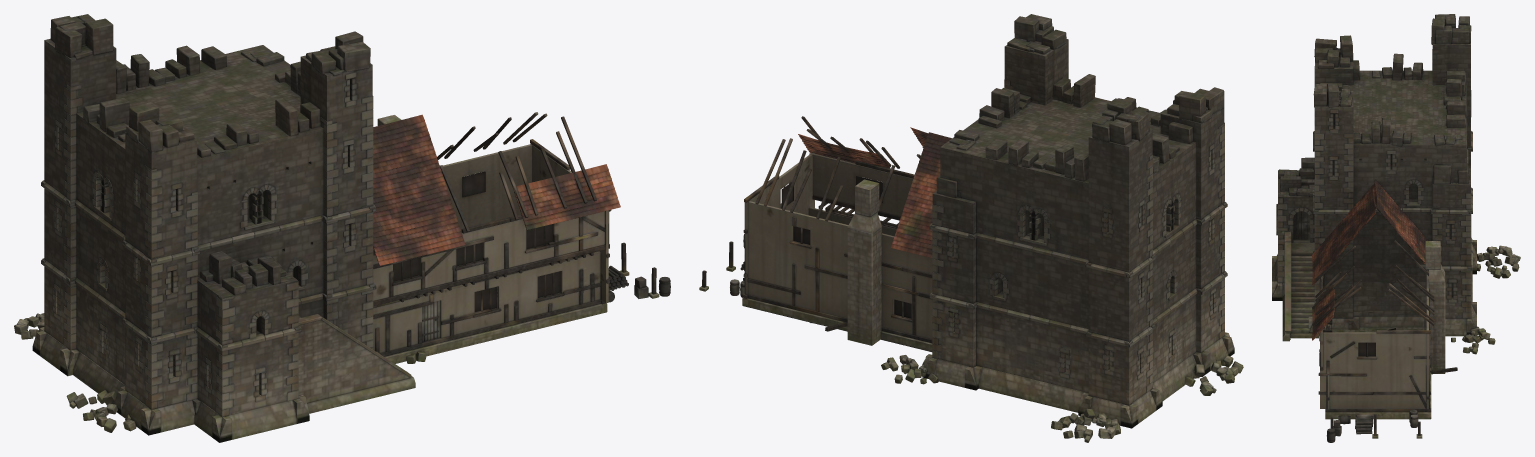
Rendered from town_hall_ruin.glb.
3 renders of one model, left to right at view 1: azimuth 30°, elevation 25°; view 2: azimuth 150°, elevation 25°; view 3: azimuth 270°, elevation 25°, orthographic. The views are drawn at different scales.
Visible parts, largest first — view 1: town_hall_ruin_LOD0; view 2: town_hall_ruin_LOD0; view 3: town_hall_ruin_LOD0.
Boxes of the visible parts, x1,y1,x2,y2 form: town_hall_ruin_LOD0: (14,14,670,442); town_hall_ruin_LOD0: (699,14,1243,442); town_hall_ruin_LOD0: (1272,14,1520,442).
Size of what is drawn, in the model's own units: 32.46 by 18.64 by 16.92.
1 material, 1 textured.
